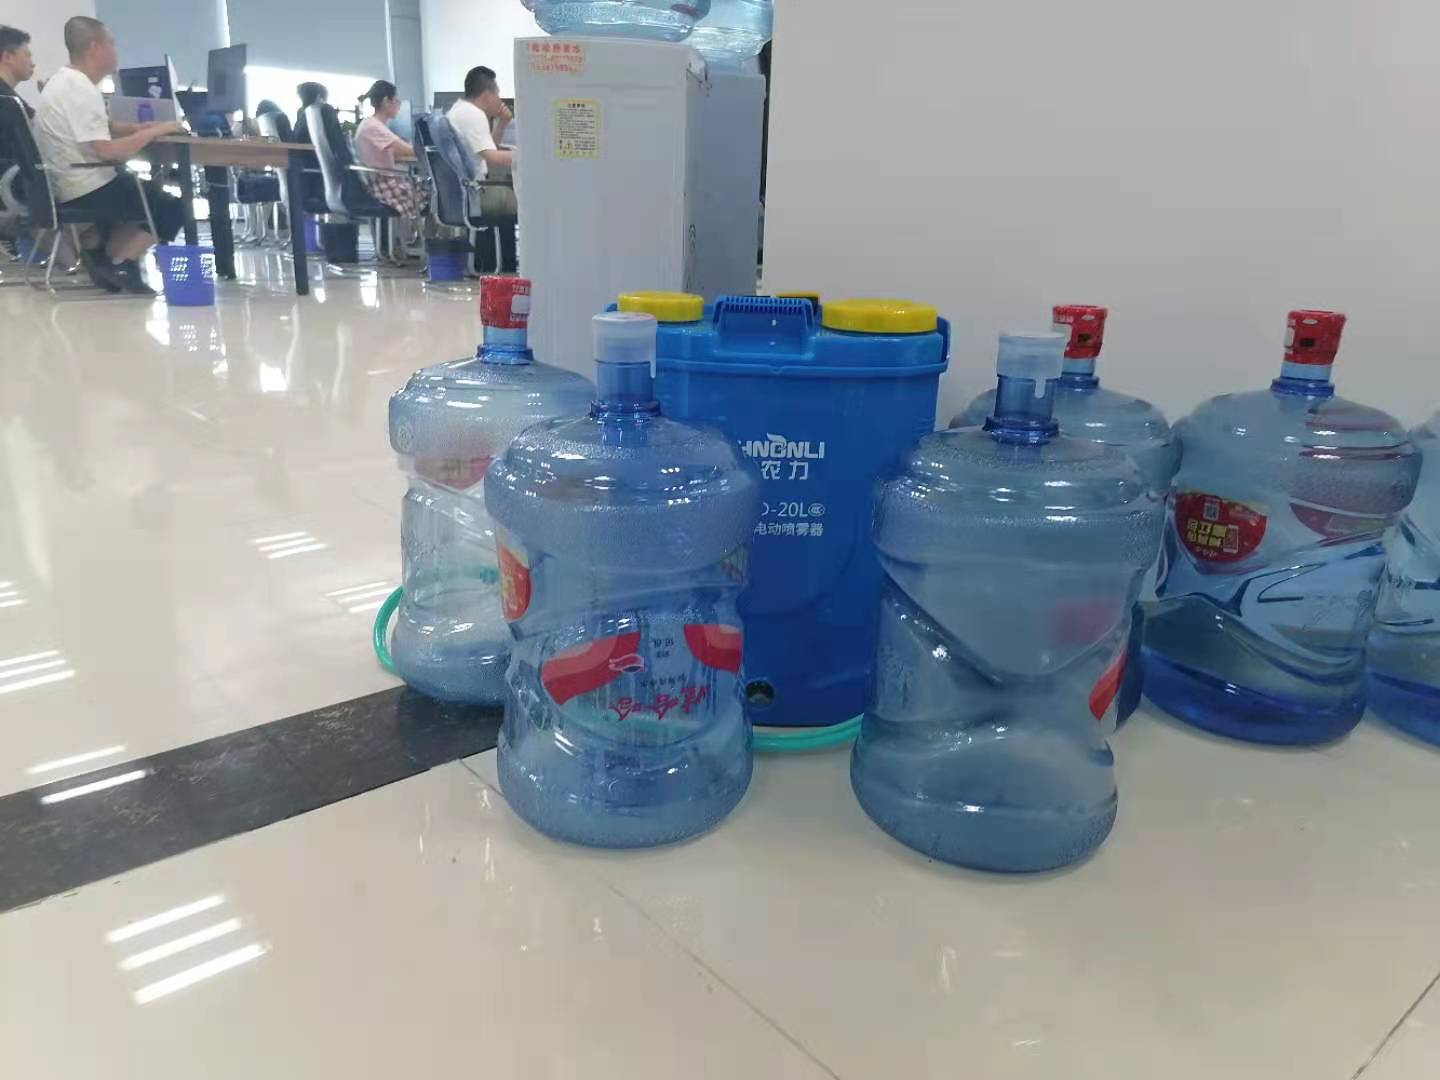berrl: (604, 290, 955, 739)
